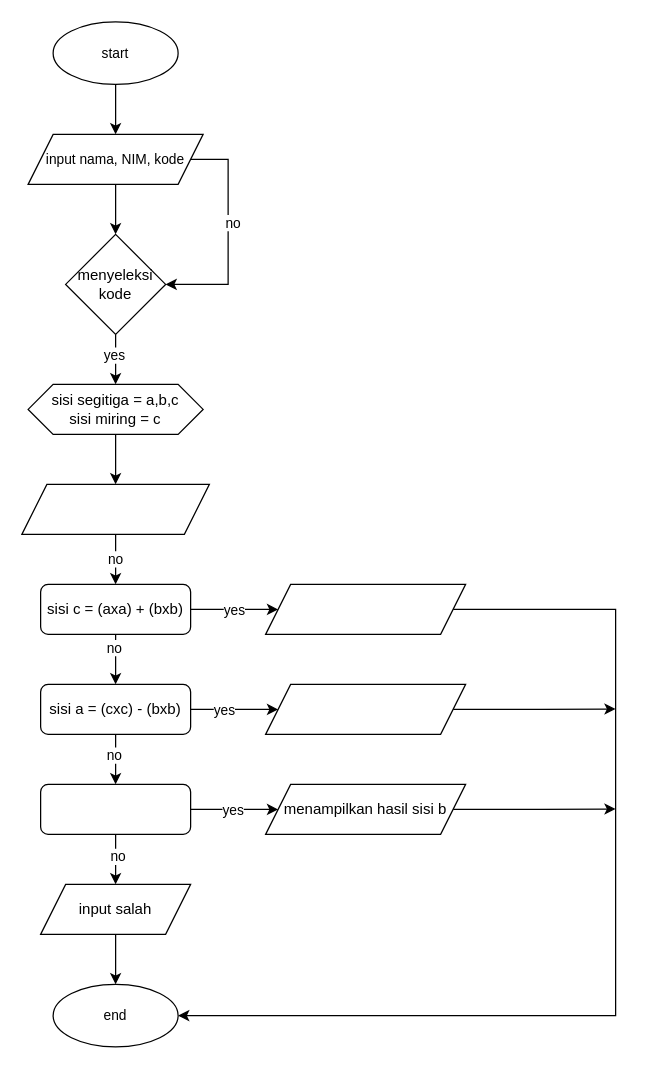
Some shapes in this 648 by 1069 pixel diagram are drawn without their labels. Each missing label, with the centre of its shape:
input sisi yang ingin diketuahui rumusnya: the point at 115,508
menampilkan hasil sisi a: the point at 365,708
menampilkan hasil sisi c: the point at 365,608
sisi b = (cxc) - (axa): the point at 115,808
